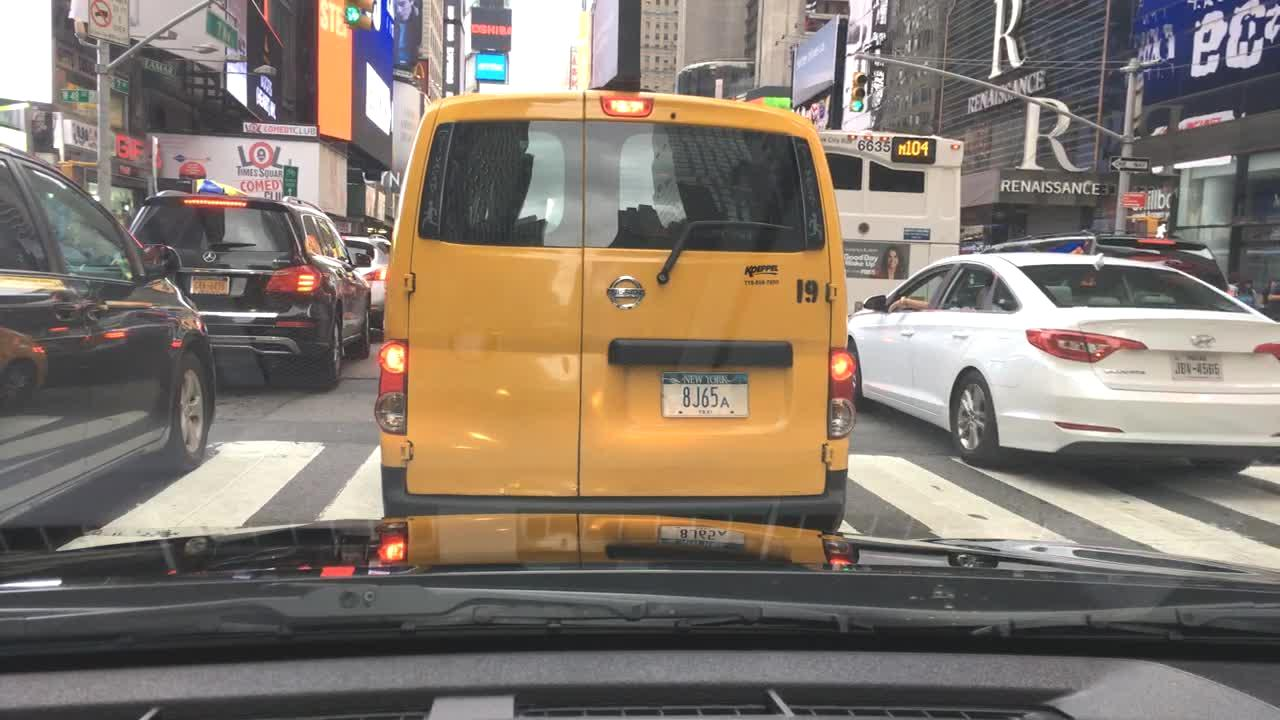Nissan: (603, 269, 651, 317)
